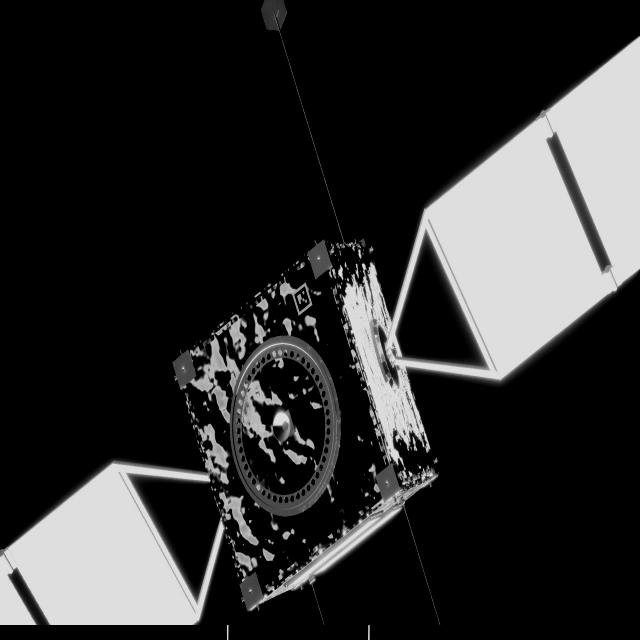medium_debris: (0, 36, 640, 627)
